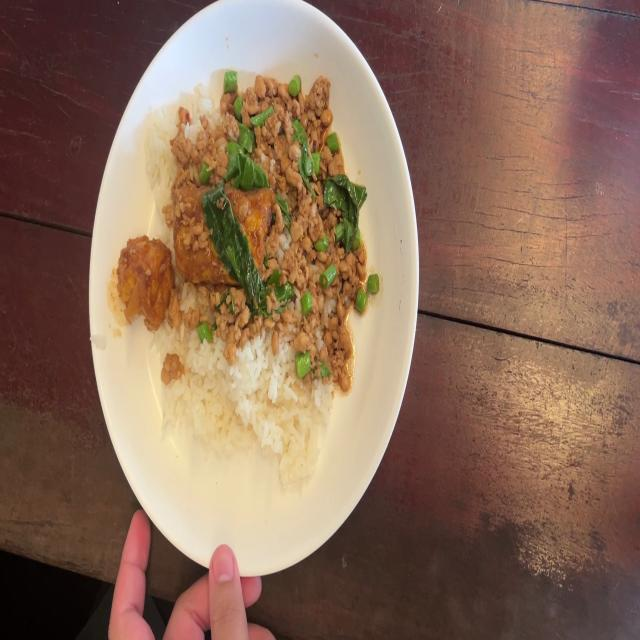01rice: (150, 330, 328, 480), (140, 87, 173, 215), (190, 77, 220, 126)
fried_tofo: (175, 185, 269, 273), (120, 239, 170, 321)
minced_pork: (268, 182, 380, 394), (178, 63, 363, 184), (173, 281, 273, 351)
stir_fried_basil: (121, 65, 379, 501)
